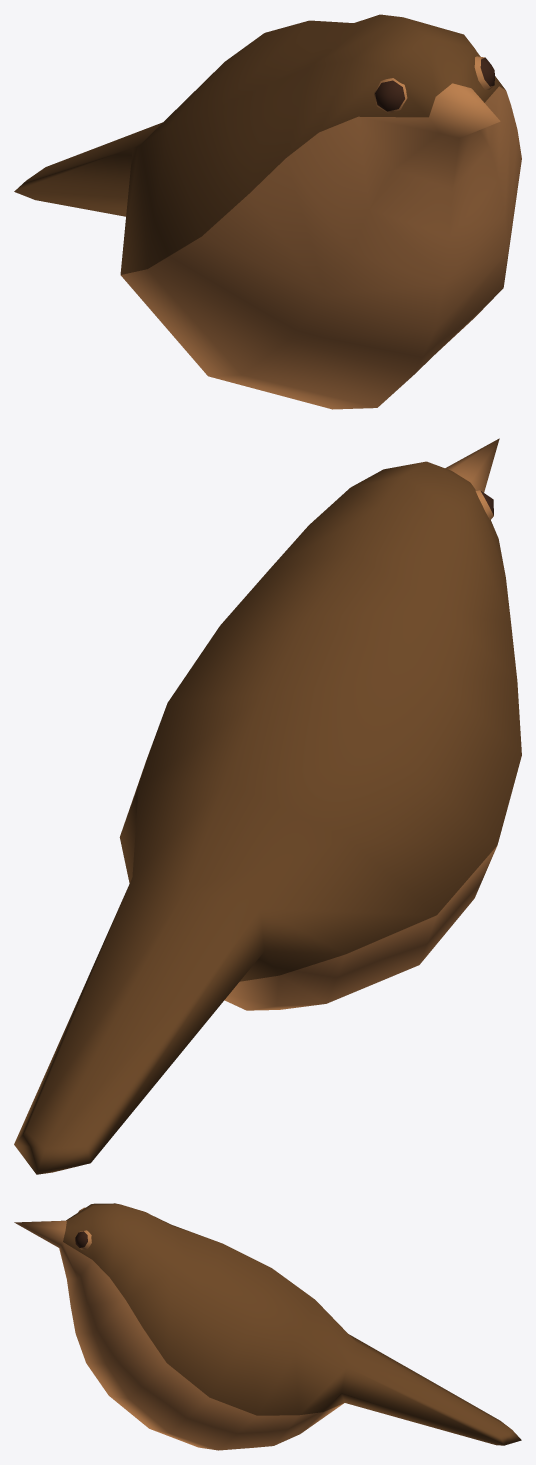
Rendered from Blackbird_f.fbx.
3 renders of one model, top to bottom at view 1: azimuth 30°, elevation 25°; view 2: azimuth 150°, elevation 25°; view 3: azimuth 270°, elevation 25°, orthographic. The views are drawn at different scales.
Parts seen in each view (by area): view 1: Black_Bird_female; view 2: Black_Bird_female; view 3: Black_Bird_female.
Boxes of the visible parts, left/top/right/bottom form: Black_Bird_female: left=14, top=14, right=521, bottom=409; Black_Bird_female: left=14, top=438, right=521, bottom=1174; Black_Bird_female: left=14, top=1203, right=521, bottom=1450.
Size of the model in its own units: 29.99 by 36.31 by 68.71.
Materials: 1 (1 with a texture image).
